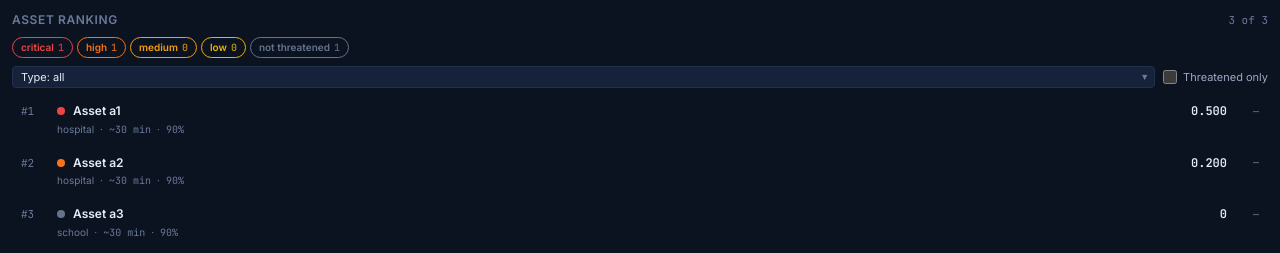
Test: RankedList › offers a way back when the filters match nothing
The image size is (1280, 253).
Click the button "critical 1". click: {"x": 42, "y": 47}
box: 12,36 -> 73,58
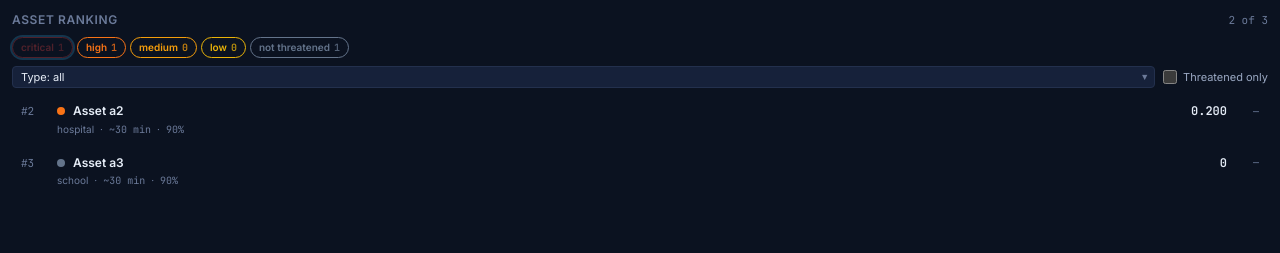
Click the button "high 1". click: {"x": 101, "y": 47}
box: 77,36 -> 126,58
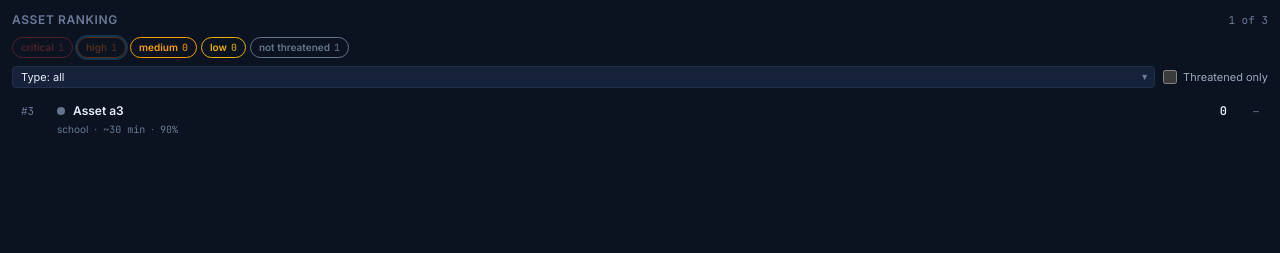
Click the button "not threatened 1". click: {"x": 299, "y": 47}
box: 250,36 -> 349,58
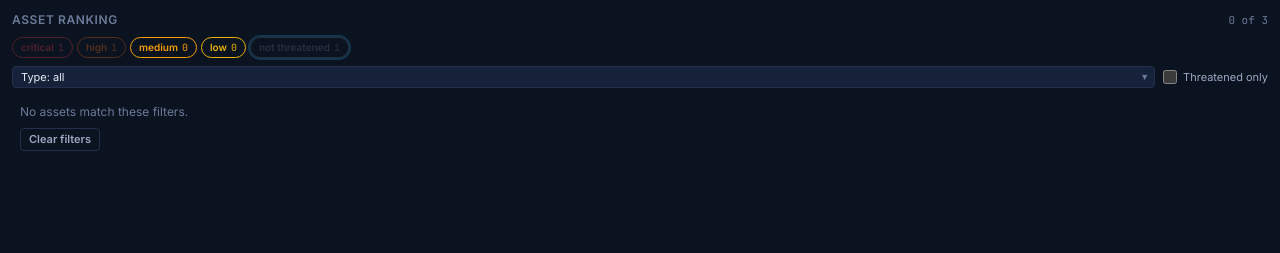
Now the text "No assets match these filters." is shown, box 20,104 -> 188,119
Click the button "Clear filters". click: {"x": 60, "y": 139}
box: 20,128 -> 100,150
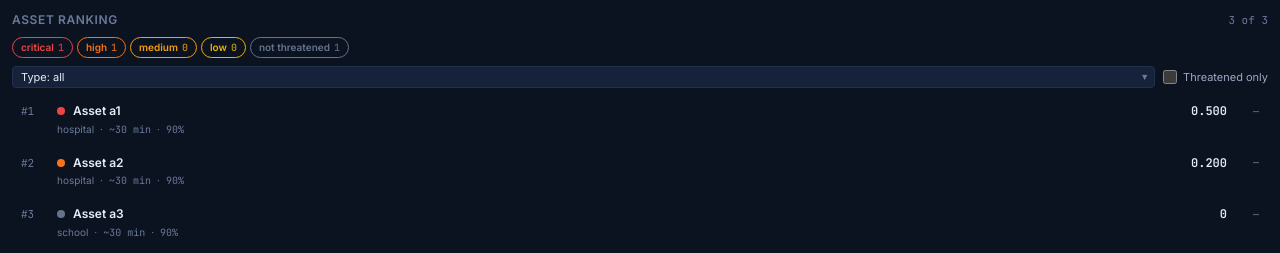
Now the text "Asset a1" is shown, box 73,103 -> 121,118
